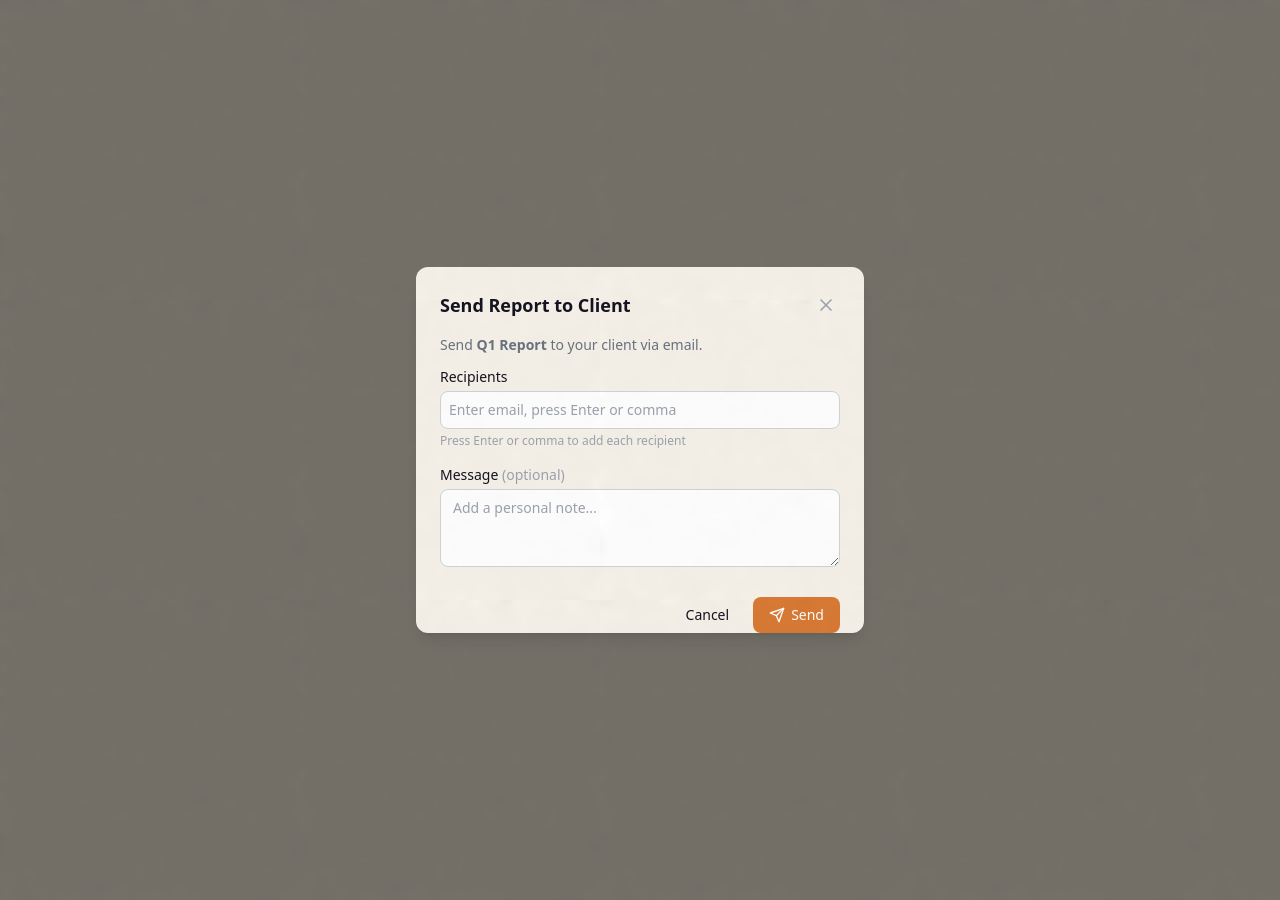
Test: SendToClientModal send flow › blocks sending with no recipients and shows a validation error
Click the button "Send".
click(797, 615)  # box [753, 597, 840, 633]
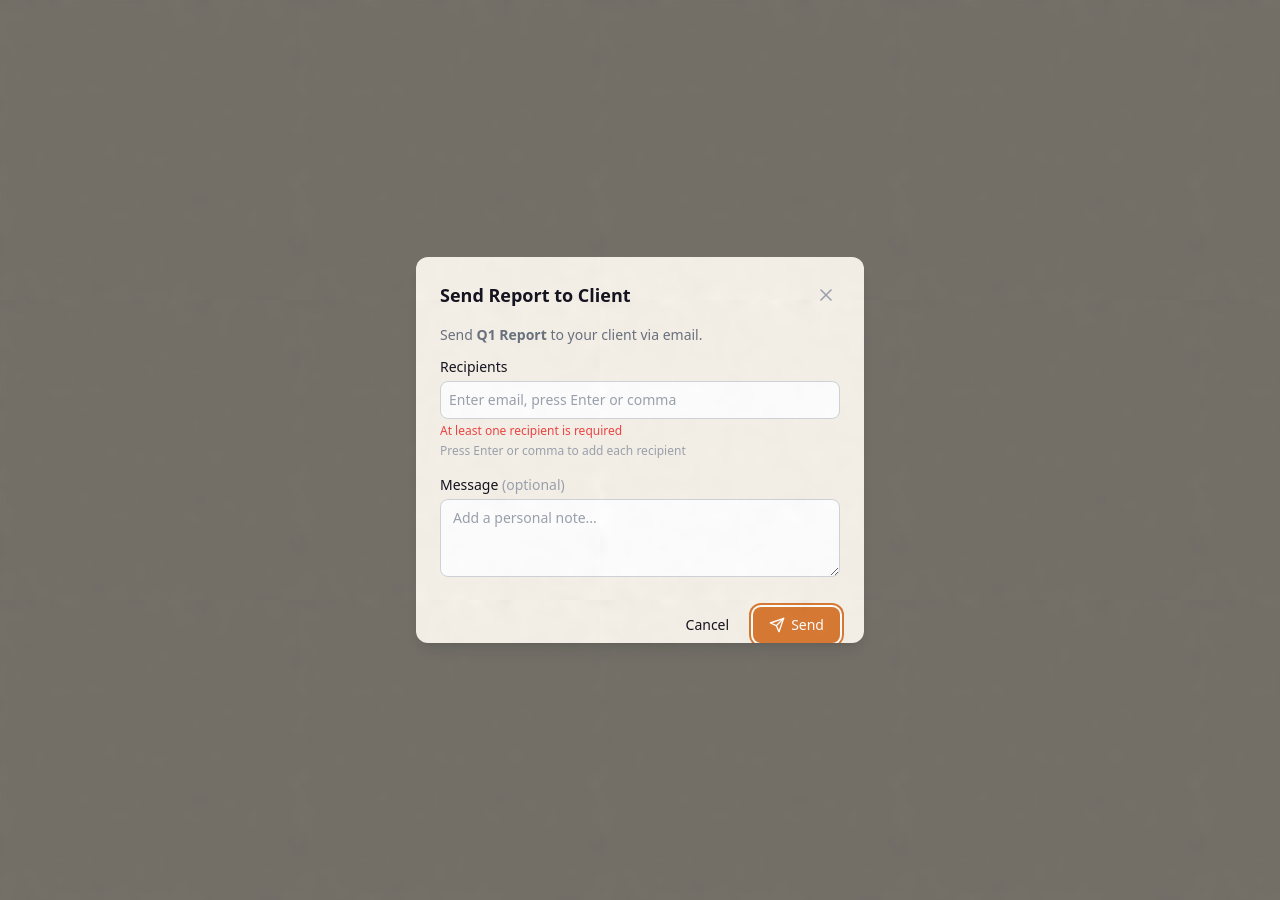
Expected: the text "At least one recipient is required" is shown, [440, 422, 622, 439]
